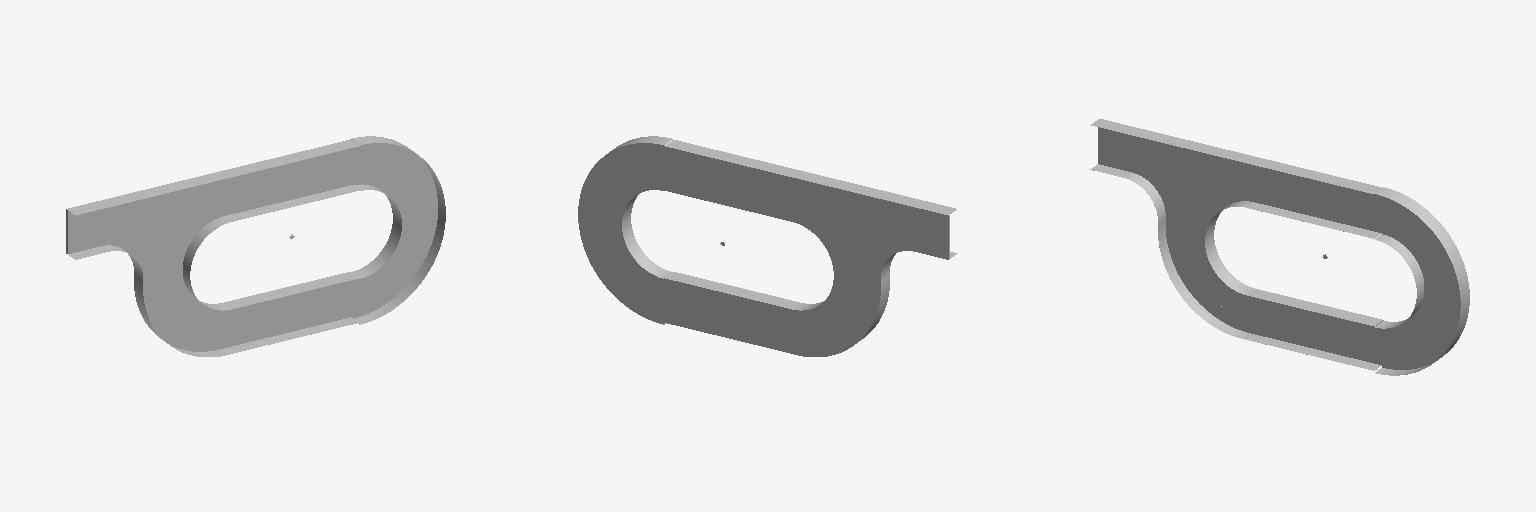
File: Long Oval.obj
3 views of the same model, side by side, from view 1: azimuth 30°, elevation 25°; view 2: azimuth 150°, elevation 25°; view 3: azimuth 330°, elevation 25° (orthographic).
Visible parts, largest first — view 1: Body7; view 2: Body7; view 3: Body7.
Part boxes in pixels (x1,y1,x2,y2): Body7: (66, 136, 445, 356); Body7: (578, 136, 957, 356); Body7: (1090, 119, 1469, 375).
Size of the model in its own units: 7.09 by 3.28 by 0.3048.